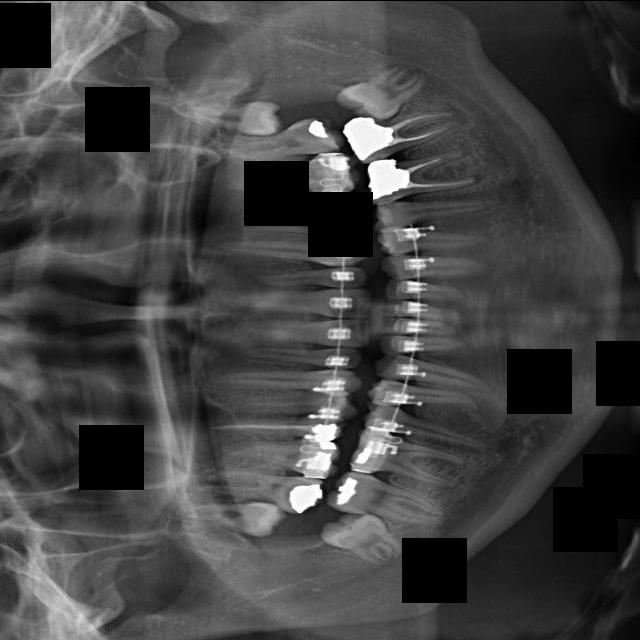3M ESPE Implant: (180, 500, 288, 536)
AGS Medikal Implant: (342, 105, 463, 162)
AMerOss Implant: (358, 141, 480, 204)
Amalgam filling: (189, 459, 325, 518)
Anthogyr Implant: (371, 181, 506, 230)
Bicon Implant: (377, 217, 487, 255)
BioHorizons Implant: (380, 252, 483, 278)
BioLife Implant: (385, 278, 465, 300)
Biomet 3i Implant: (383, 297, 458, 320)
Blue Sky Bio Implant: (383, 316, 461, 335)
Camlog Implant: (380, 334, 463, 351)
Caries: (246, 265, 365, 290)
Composite filling: (371, 350, 493, 390)
Cowellmedi Implant: (366, 378, 481, 407)
Crown: (363, 399, 492, 451)
DENTSPLY Implant: (215, 434, 340, 478)
Dentatus Implant: (347, 424, 470, 492)
Dentis Implant: (322, 465, 448, 530)
Dentium Implant: (316, 496, 412, 573)
Euroteknika Implant: (203, 414, 341, 440)
Filling: (211, 384, 358, 419)
Frontier Implant: (195, 369, 362, 393)
Hiossen Implant: (208, 236, 366, 266)
Implant: (234, 317, 368, 347)
Implant Direct: (239, 344, 362, 368)
Keystone Dental Implant: (228, 286, 368, 317)
MIS Implant: (223, 209, 368, 248)
Mandible: (228, 187, 359, 222)
Maxilla: (226, 151, 354, 190)
Megagen Implant: (215, 113, 339, 162)
Neodent Implant: (171, 99, 279, 132)
Neoss Implant: (333, 50, 437, 135)
